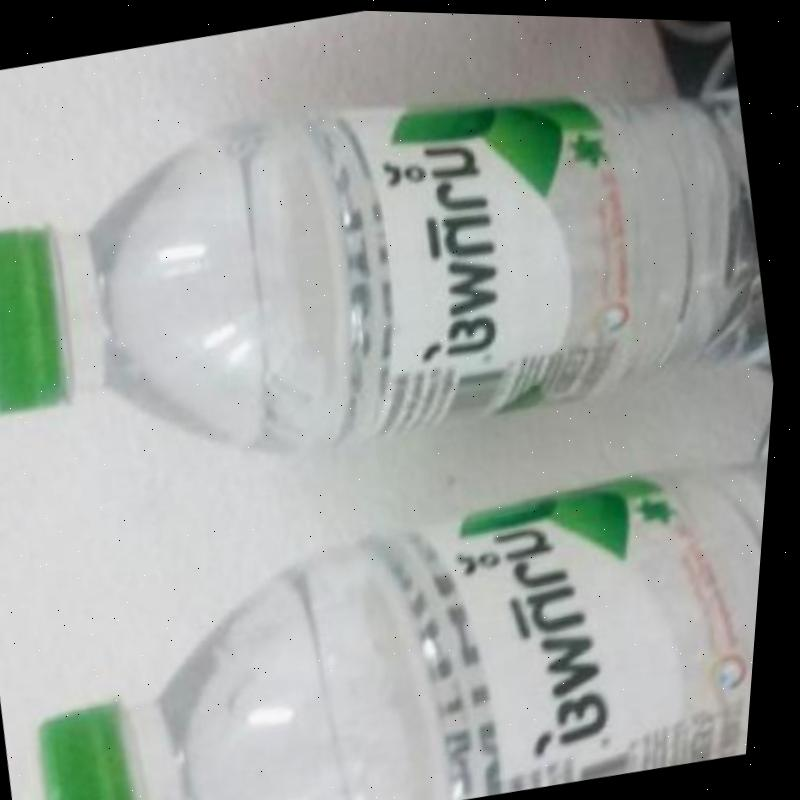botella: (0, 19, 797, 520), (11, 429, 775, 800)
